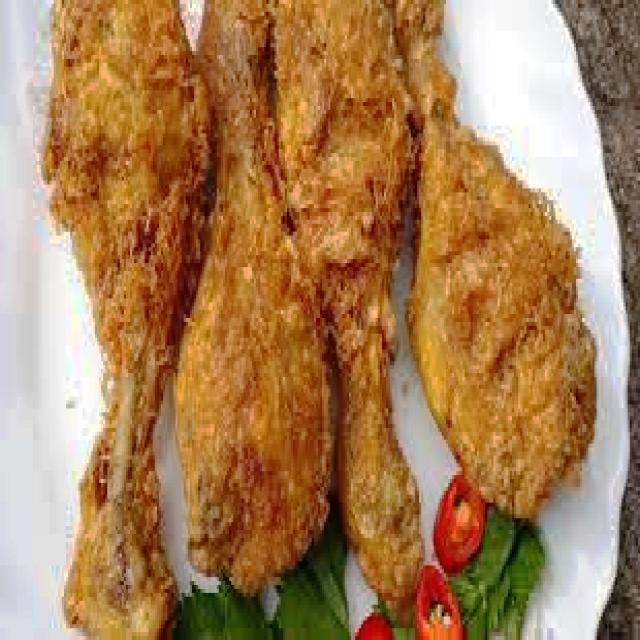fried_chicken: (41, 0, 215, 632), (396, 0, 597, 499), (173, 0, 334, 593), (279, 0, 427, 597)
